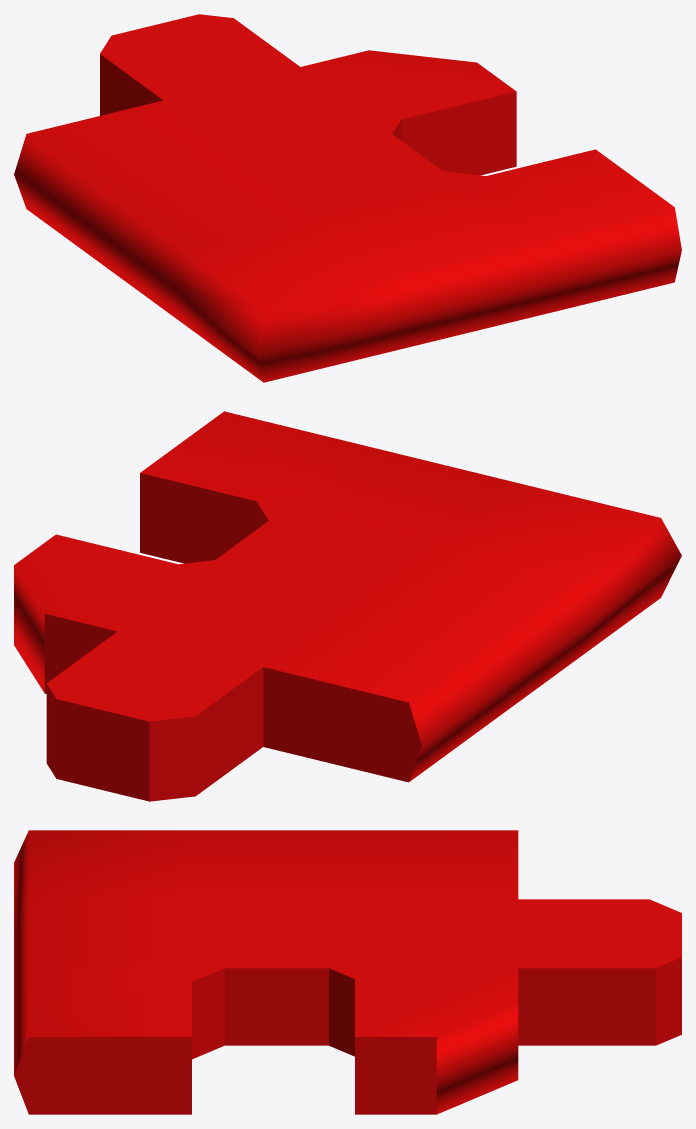
Rendered from red.fbx.
3 renders of one model, top to bottom at view 1: azimuth 30°, elevation 25°; view 2: azimuth 150°, elevation 25°; view 3: azimuth 270°, elevation 25°, orthographic. The views are drawn at different scales.
Parts seen in each view (by area): view 1: pCube4; view 2: pCube4; view 3: pCube4.
Part boxes in pixels (x1,y1,x2,y2): pCube4: (14,14,681,382); pCube4: (14,411,681,801); pCube4: (14,830,681,1114).
Bounding box in the file's own units: 6.29 × 1.07 × 8.33.
